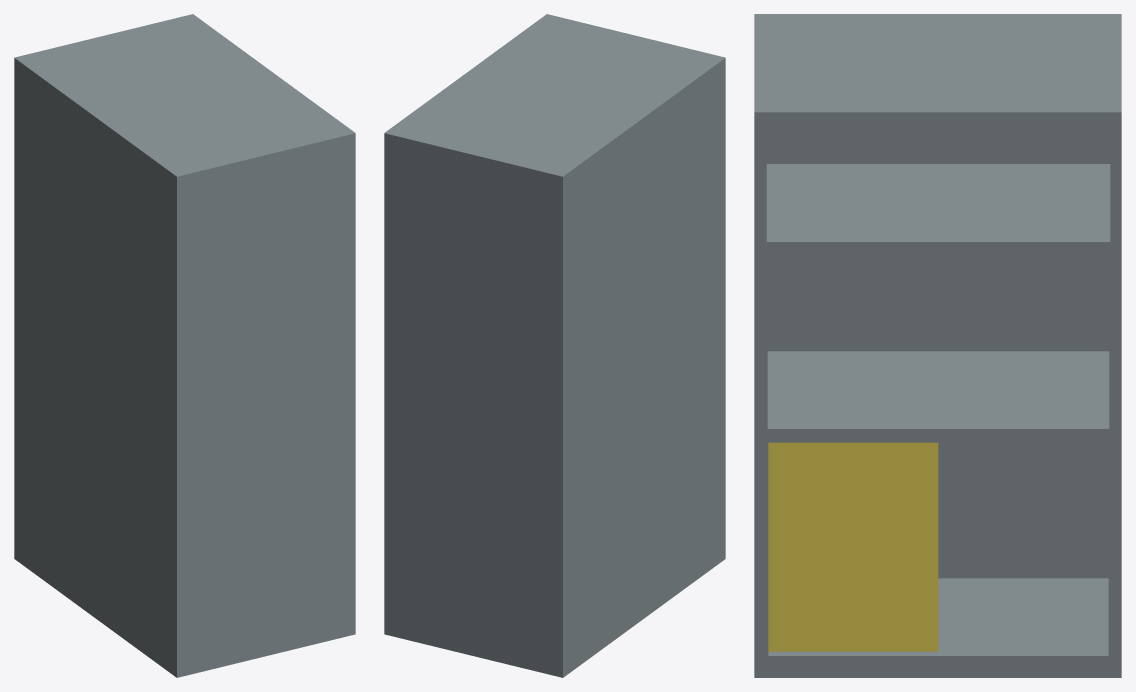
The model's file is bookcase.fbx.
3 views of the same model, side by side, from view 1: azimuth 30°, elevation 25°; view 2: azimuth 150°, elevation 25°; view 3: azimuth 270°, elevation 25° (orthographic). The views are drawn at different scales.
Parts seen in each view (by area): view 1: raf; view 2: raf; view 3: raf.
Boxes of the visible parts, x1=… form: raf: x1=14, y1=14, x2=355, y2=677; raf: x1=384, y1=14, x2=725, y2=677; raf: x1=754, y1=14, x2=1121, y2=677.
Bounding box in the file's own units: 69.47 × 186 × 109.
